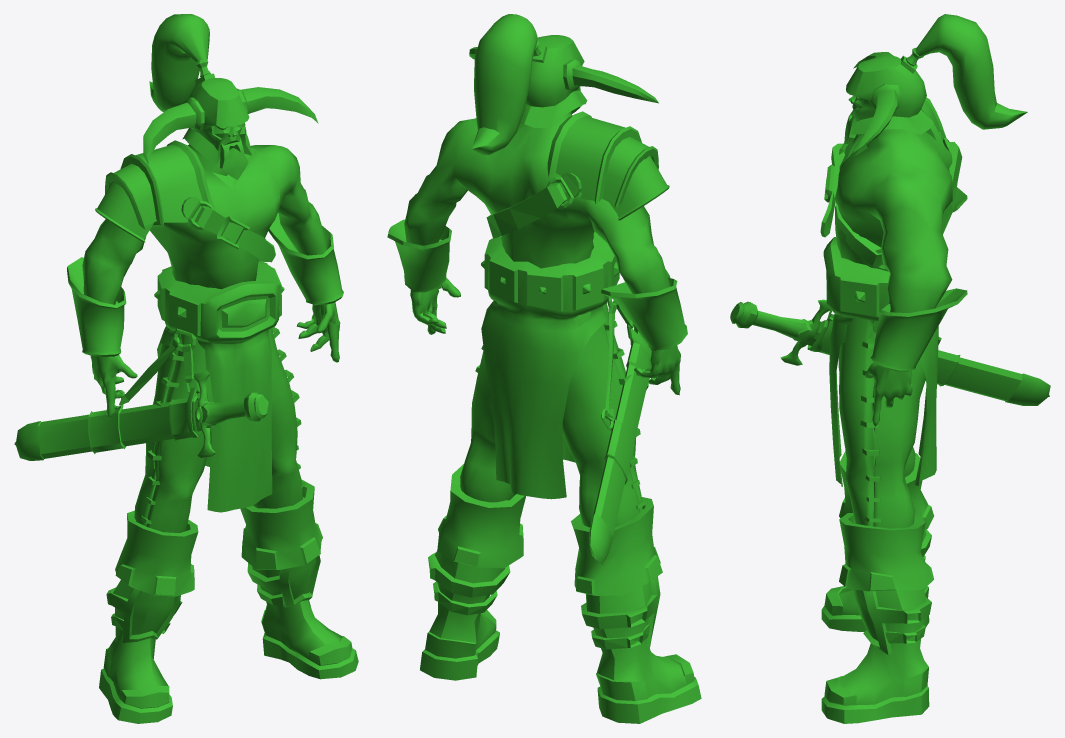
File: dude.DAE
3 views of the same model, side by side, from view 1: azimuth 30°, elevation 25°; view 2: azimuth 150°, elevation 25°; view 3: azimuth 270°, elevation 25° (orthographic). The views are drawn at different scales.
Parts seen in each view (by area): view 1: l_legs; view 2: l_legs; view 3: l_legs.
Boxes of the visible parts, x1,y1,x2,y2 form: l_legs: [14, 14, 358, 723]; l_legs: [387, 14, 701, 723]; l_legs: [730, 14, 1050, 723].
Bounding box in the file's own units: 183 × 195 × 437.
